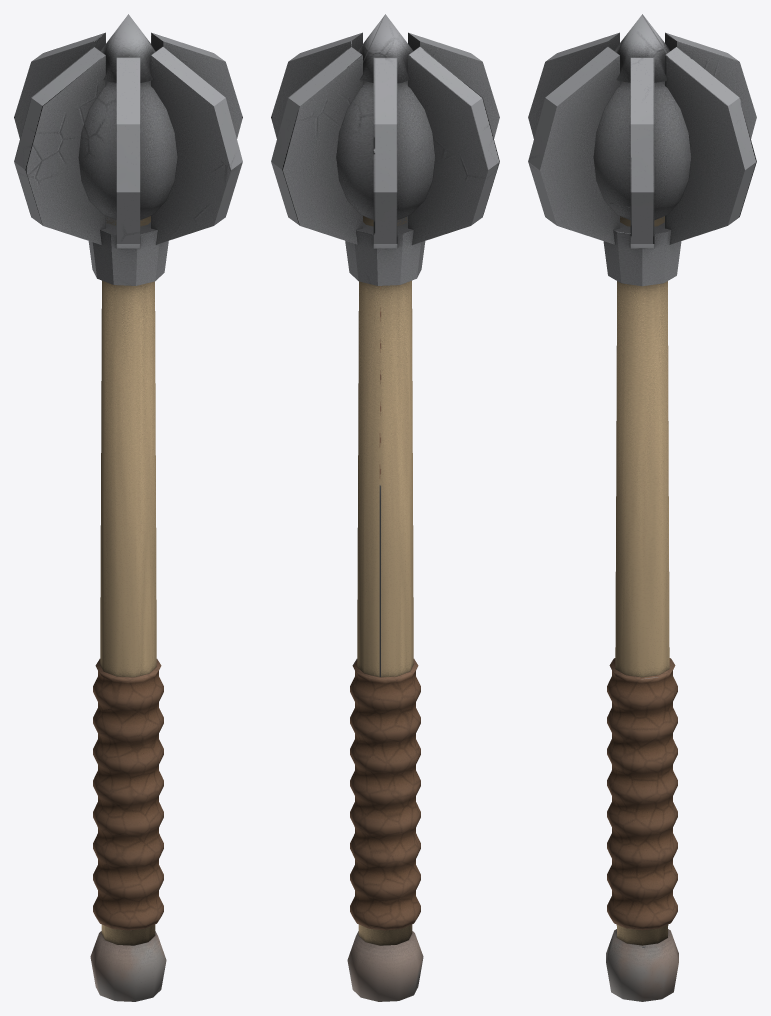
The model's file is light-mace.glb.
The picture shows the model from 3 angles, left to right: view 1: azimuth 30°, elevation 25°; view 2: azimuth 150°, elevation 25°; view 3: azimuth 270°, elevation 25°; orthographic projection.
Visible parts, largest first — view 1: light-mace; view 2: light-mace; view 3: light-mace.
Part boxes in pixels (x1=…): light-mace: x1=14, y1=14, x2=242, y2=1001; light-mace: x1=271, y1=14, x2=499, y2=1001; light-mace: x1=528, y1=14, x2=756, y2=1001.
Size of the model in its own units: 0.38 by 1.65 by 0.3471.
Materials: 1 (1 with a texture image).
